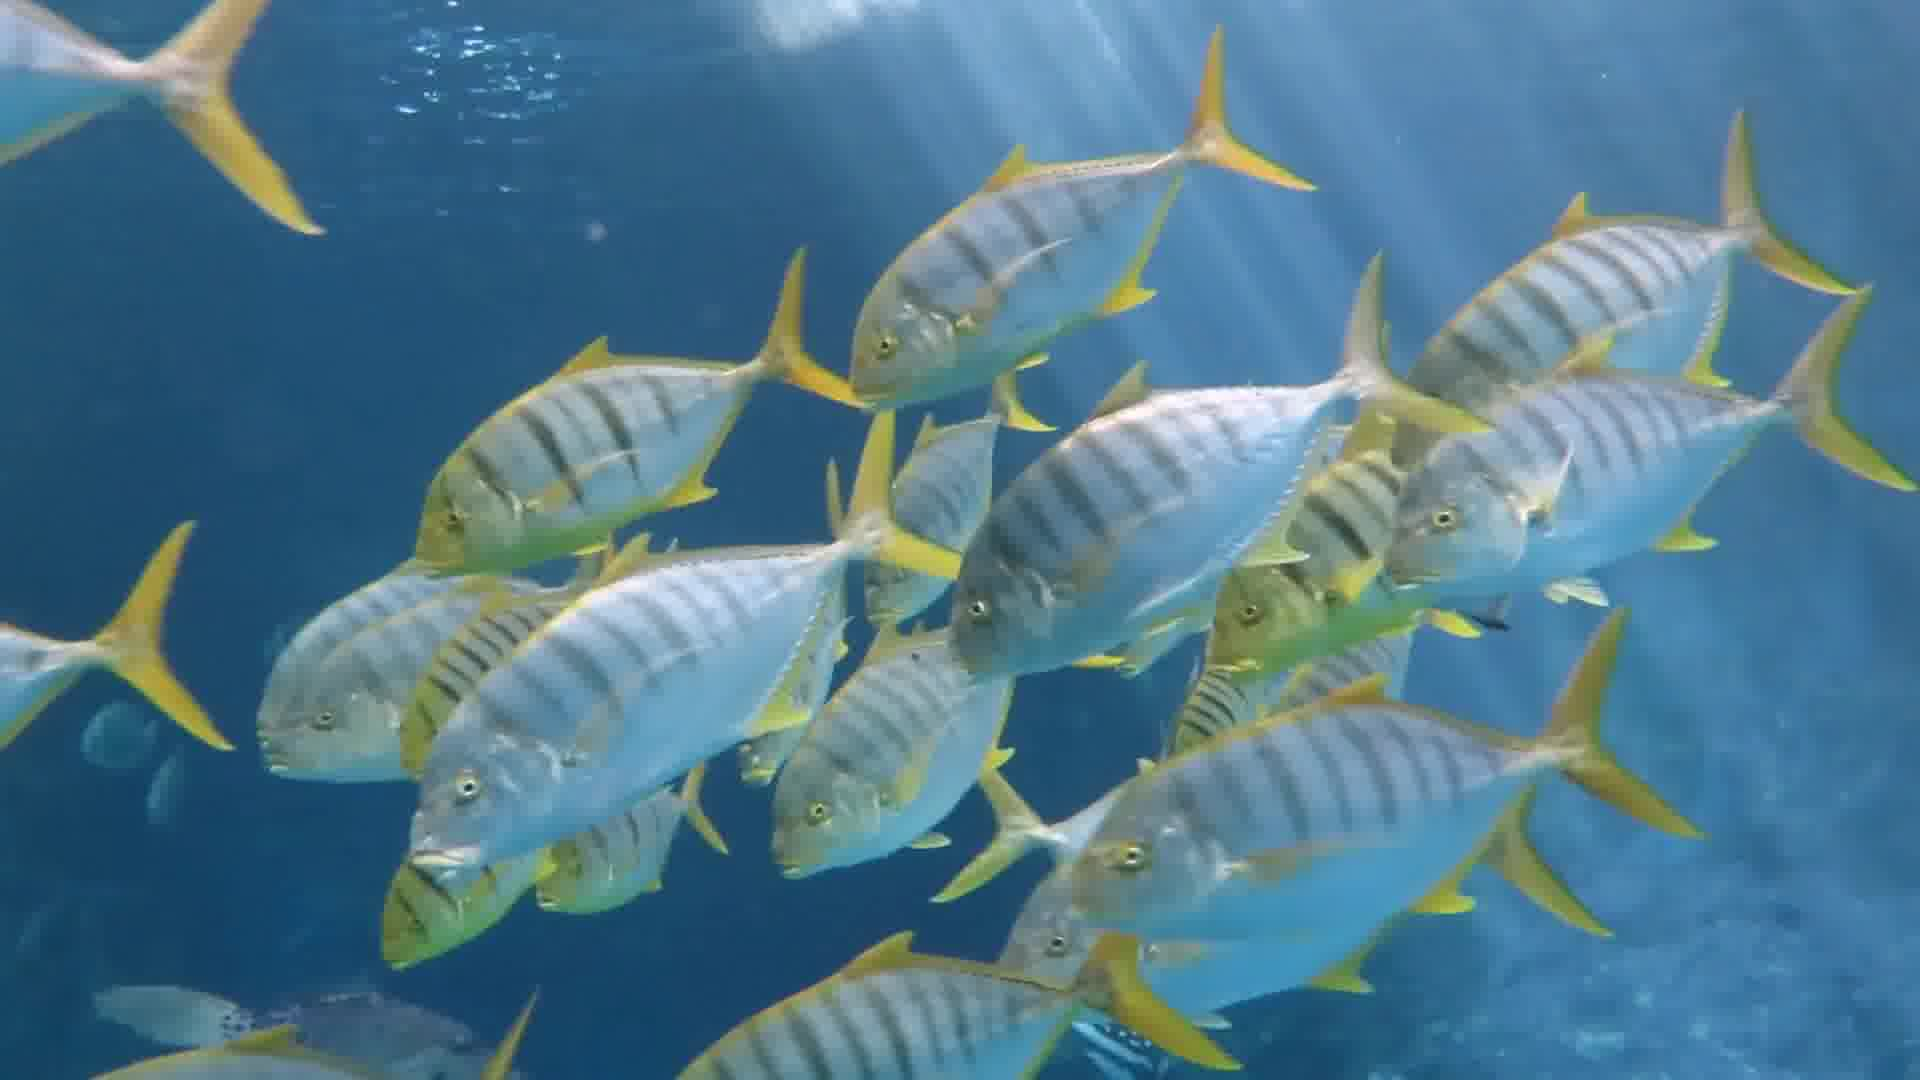Gnathanodon speciosus: (849, 59, 1267, 406), (396, 568, 822, 881), (939, 343, 1354, 658), (1050, 702, 1604, 930), (1385, 359, 1849, 593), (413, 299, 783, 582), (775, 621, 1002, 885), (1203, 472, 1427, 694)
